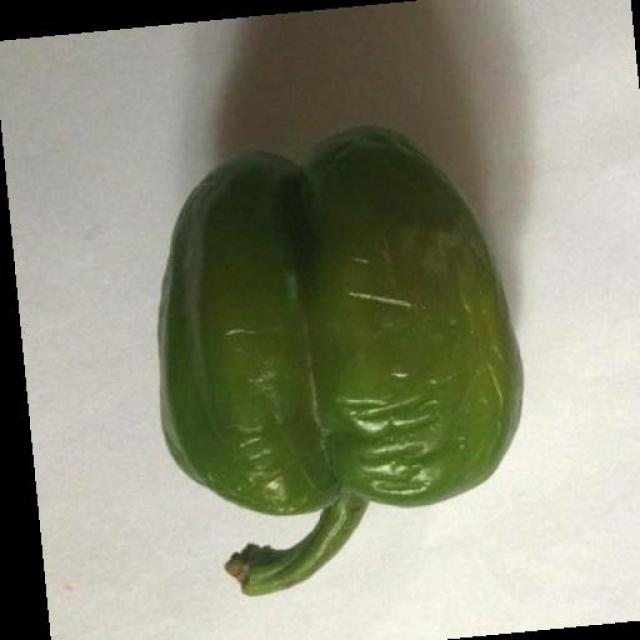Stale_Capsicum: (175, 130, 518, 562)
